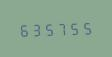five: (70, 19, 82, 36), (44, 20, 56, 36), (83, 19, 95, 35)
seven: (57, 19, 69, 36)
six: (17, 21, 29, 37)
three: (30, 20, 42, 37)
